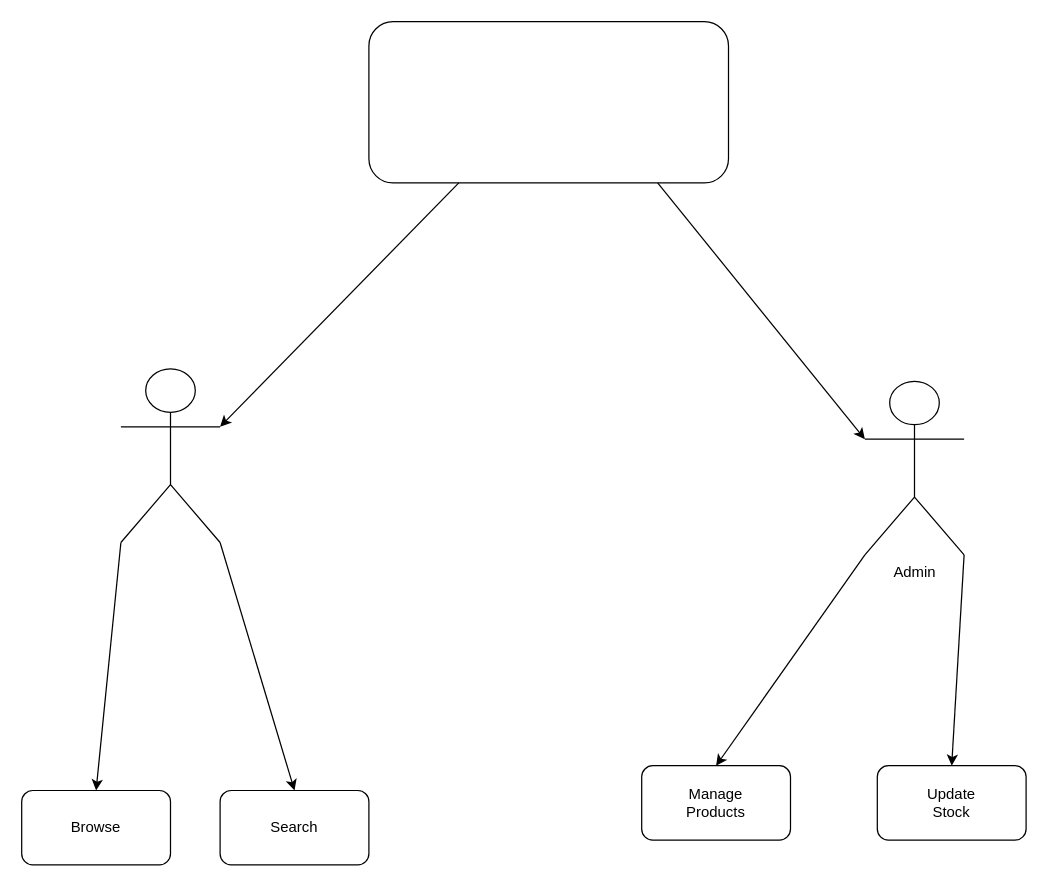
This 1048x887 diagram has some shape labels left out. The centre of each missing label's shape, as x and y in pixels:
"Customer" goes at point (170, 455).
"Flipkart" goes at point (548, 101).
